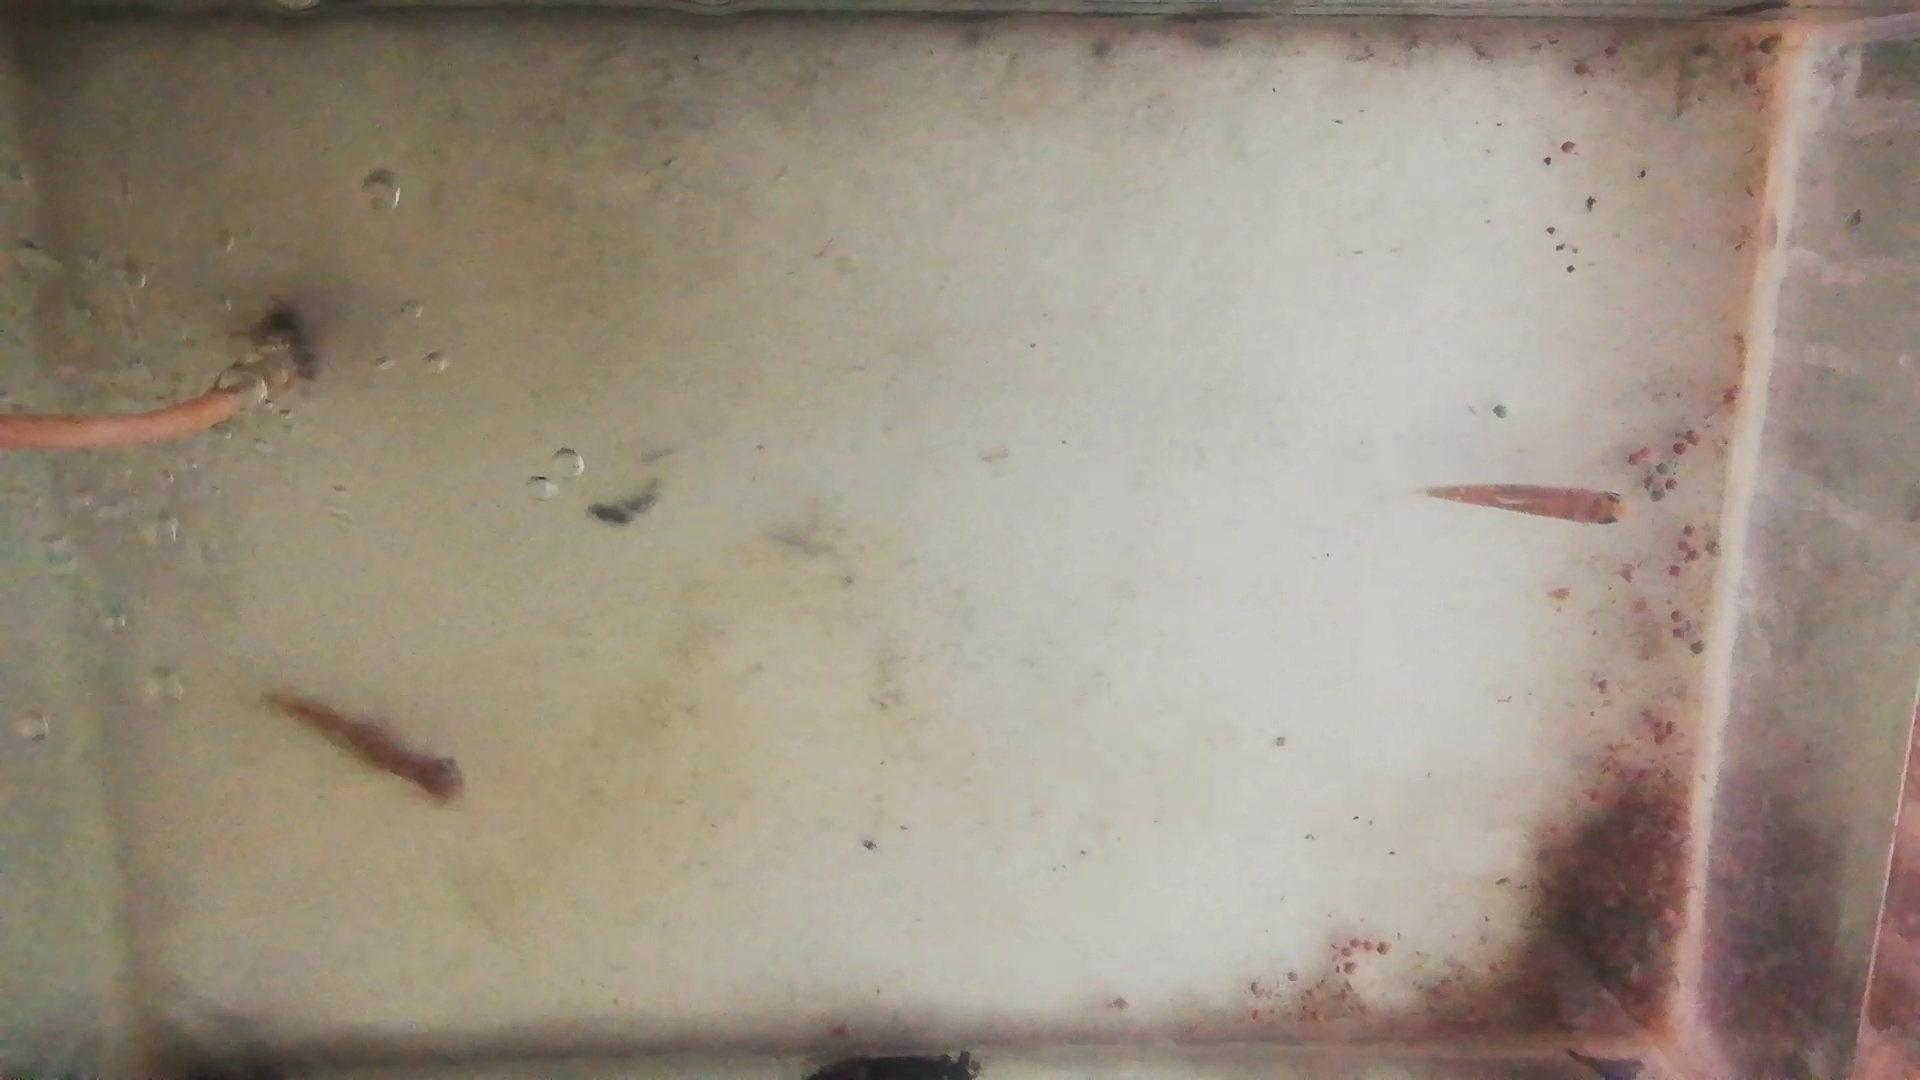fish: (262, 688, 468, 804), (1431, 483, 1633, 530)
